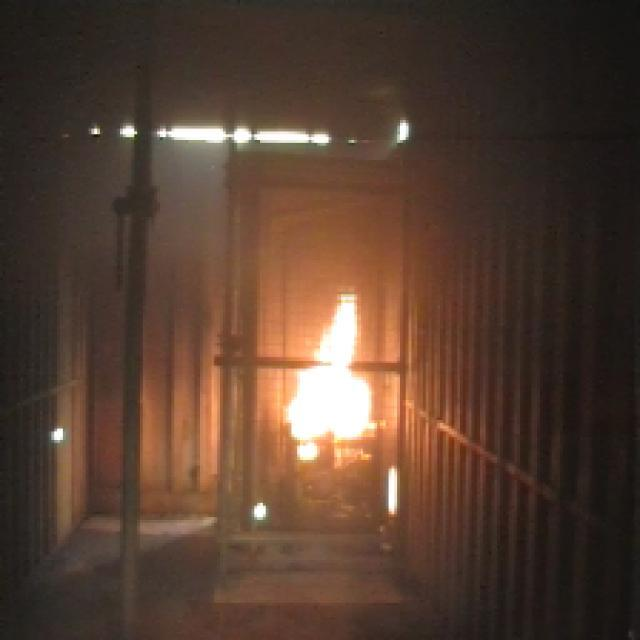Fire: (290, 289, 376, 452)
